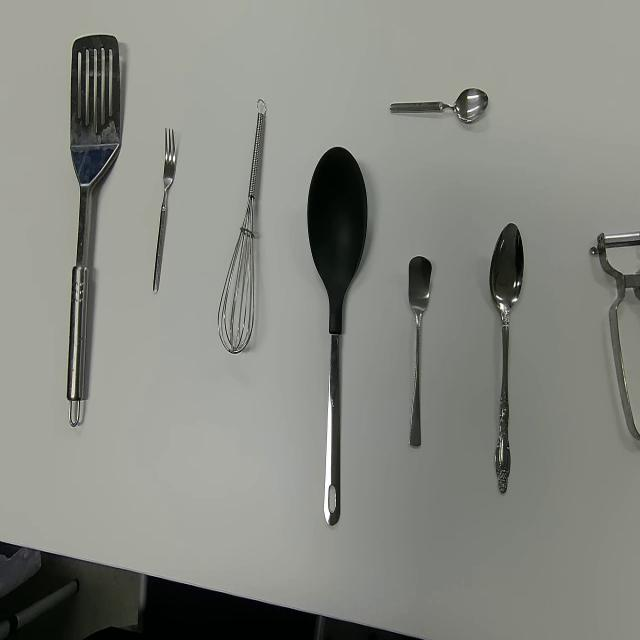Desert-Spoon: (489, 221, 525, 496)
Dinner-Fork: (152, 126, 177, 294)
Peeler: (589, 228, 640, 442)
Serving-Spoon: (306, 144, 368, 528), (65, 32, 121, 430)
Tea-Spoon: (407, 254, 433, 448), (388, 85, 489, 123)
Whisk: (217, 96, 267, 354)
